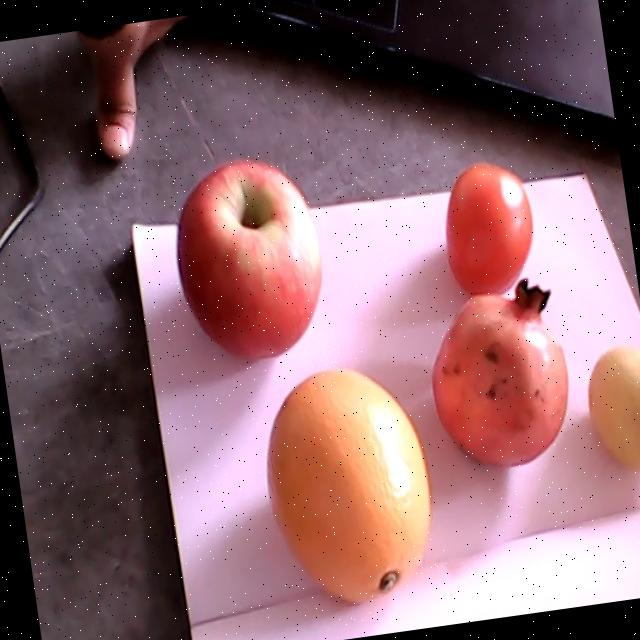apple: (178, 161, 322, 361)
lemon: (589, 347, 640, 471)
orange: (266, 370, 431, 602)
pomegranate: (432, 278, 568, 467)
tomato: (448, 162, 533, 296)
